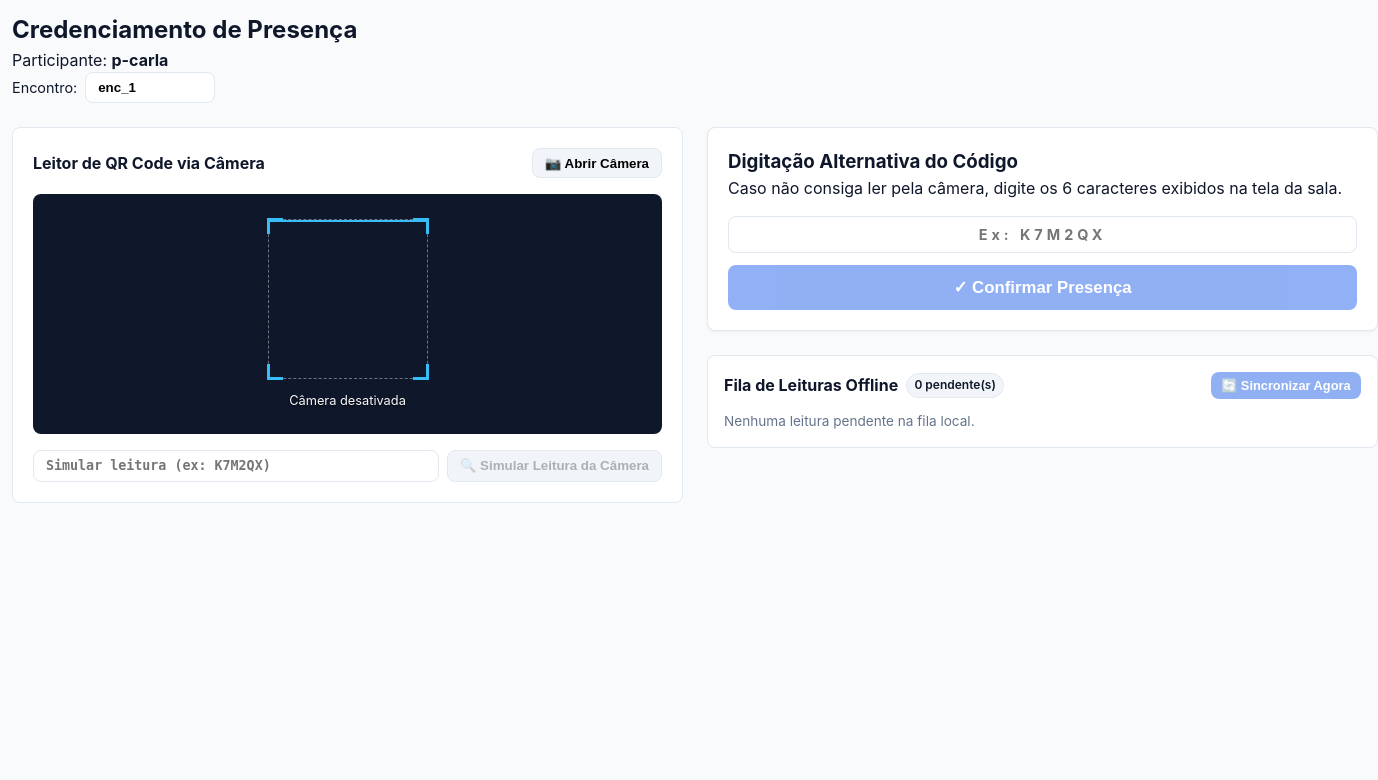
Scenario: M3 — Tela do Participante › exibe mensagem adequada quando o código QR for inválido ou expirado (CODIGO_INVALIDO)
Type "ERRADO" into the field with test id "input-codigo-manual" at x=1042, y=235, box [728, 216, 1357, 253]
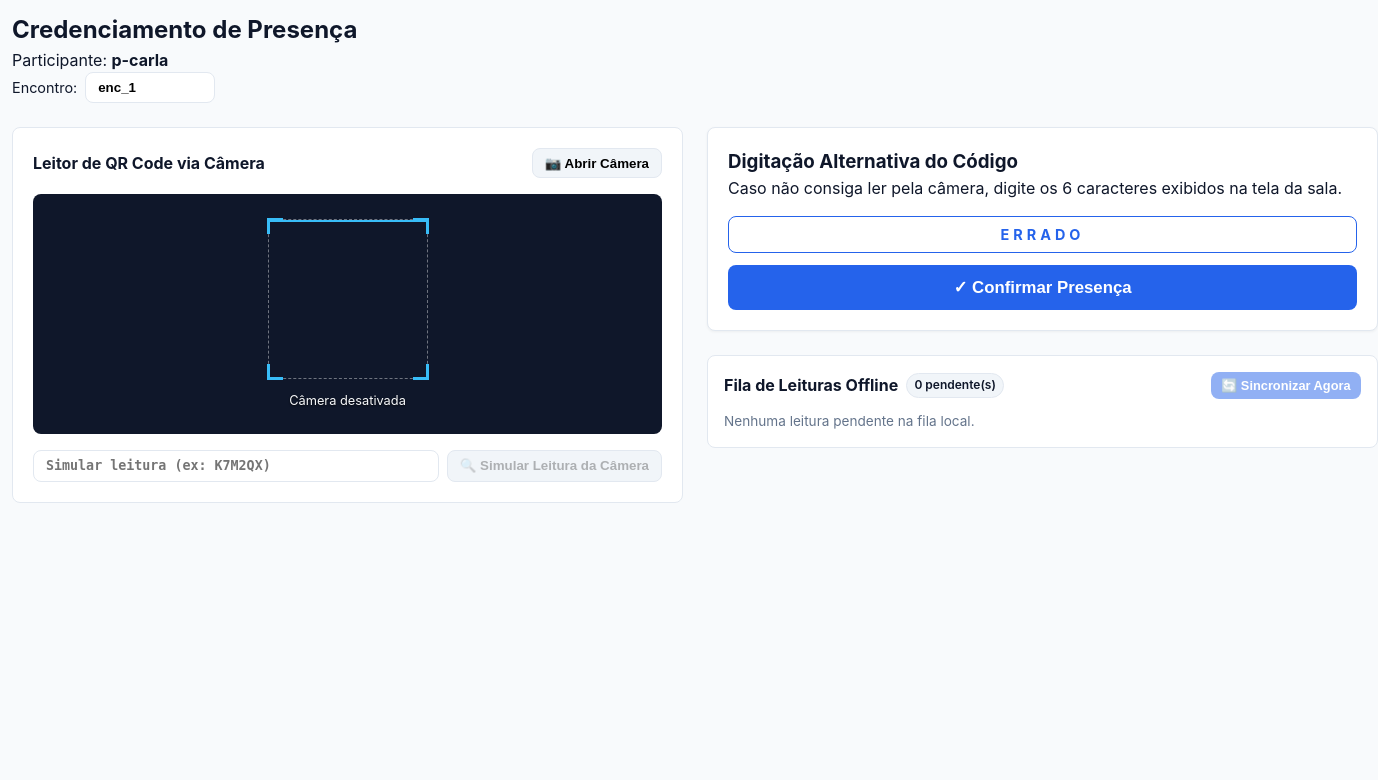
Click the button with test id "btn-confirmar-presenca" at x=1042, y=288, box [728, 265, 1357, 310]
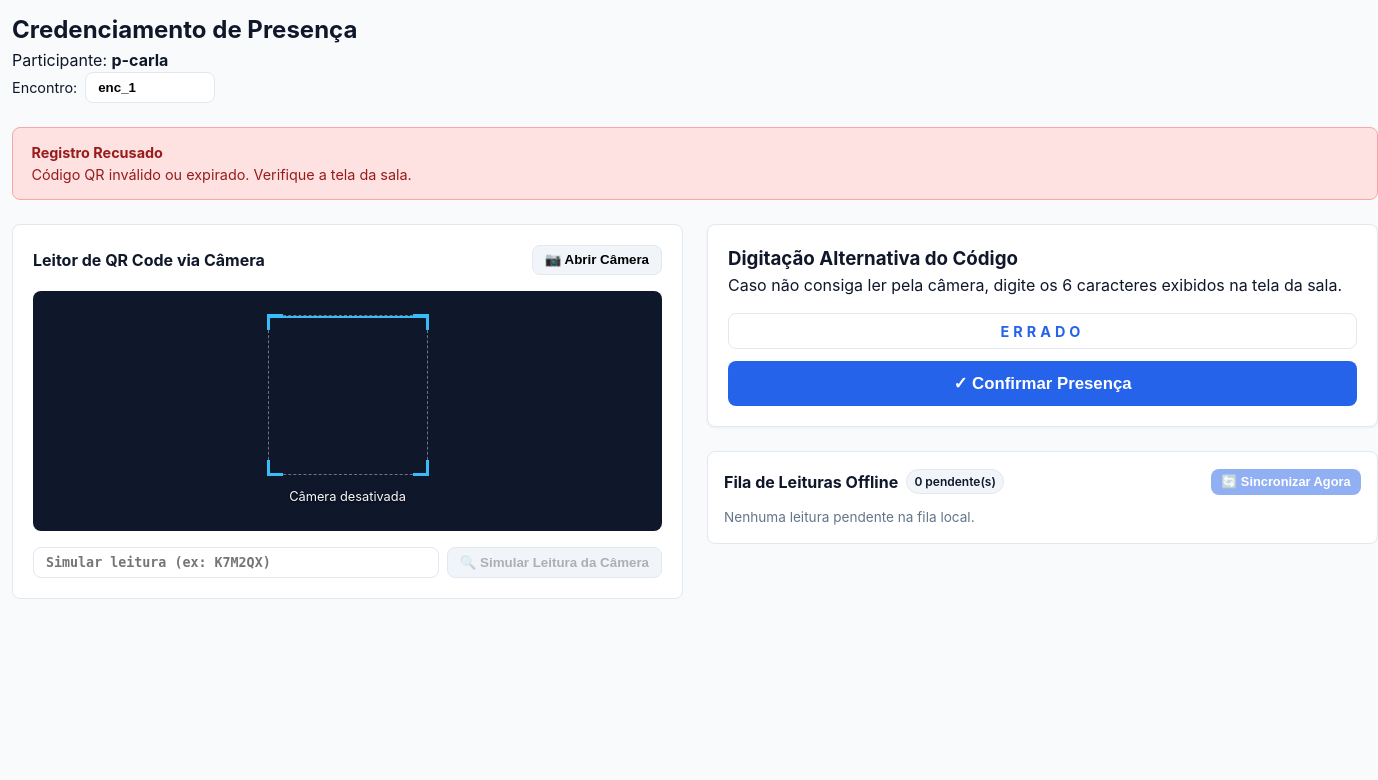
Check: the element with test id "participante-feedback" shows "Código QR inválido ou expirado. Verifique a tela da sala.", box [31, 166, 412, 183]
